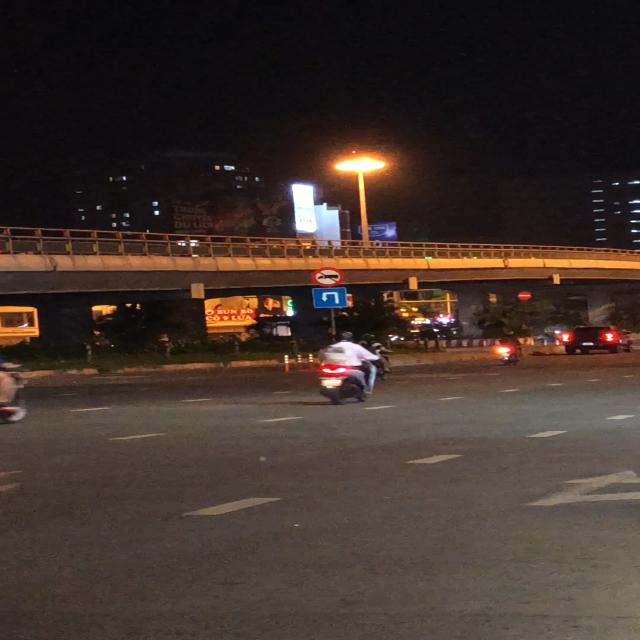Bien bao cam xe so-mi ro-mooc: (311, 265, 345, 288)
